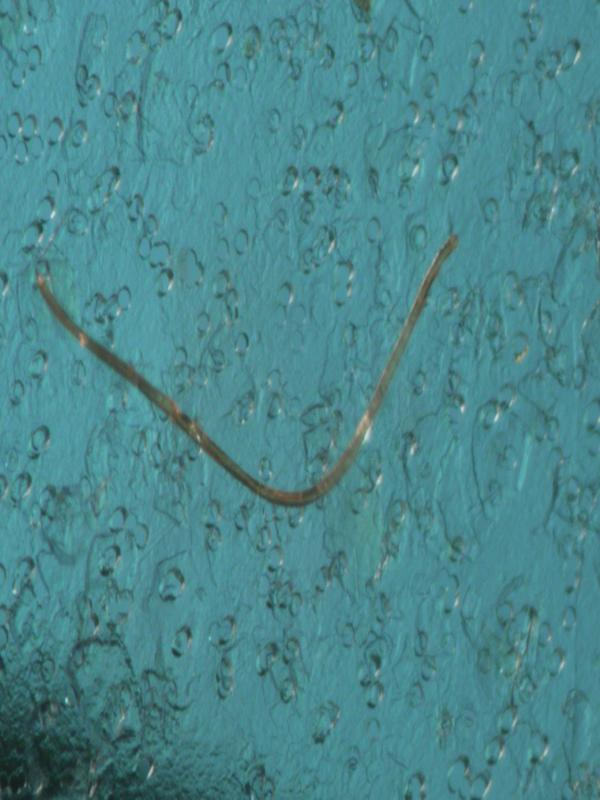microplastic: (1, 1, 598, 797), (34, 229, 460, 508)
